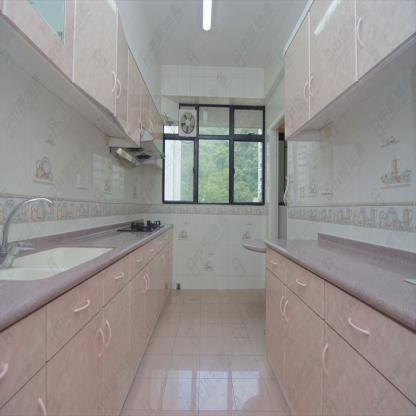Cupboard: (0, 224, 172, 415), (263, 244, 416, 415), (282, 0, 416, 140)
Exhaust Fan: (177, 110, 197, 140)
Exhaust Hood: (108, 127, 163, 167)
Faucet: (3, 193, 60, 265)
Sink: (0, 244, 114, 281)
Stove: (116, 220, 164, 232)
